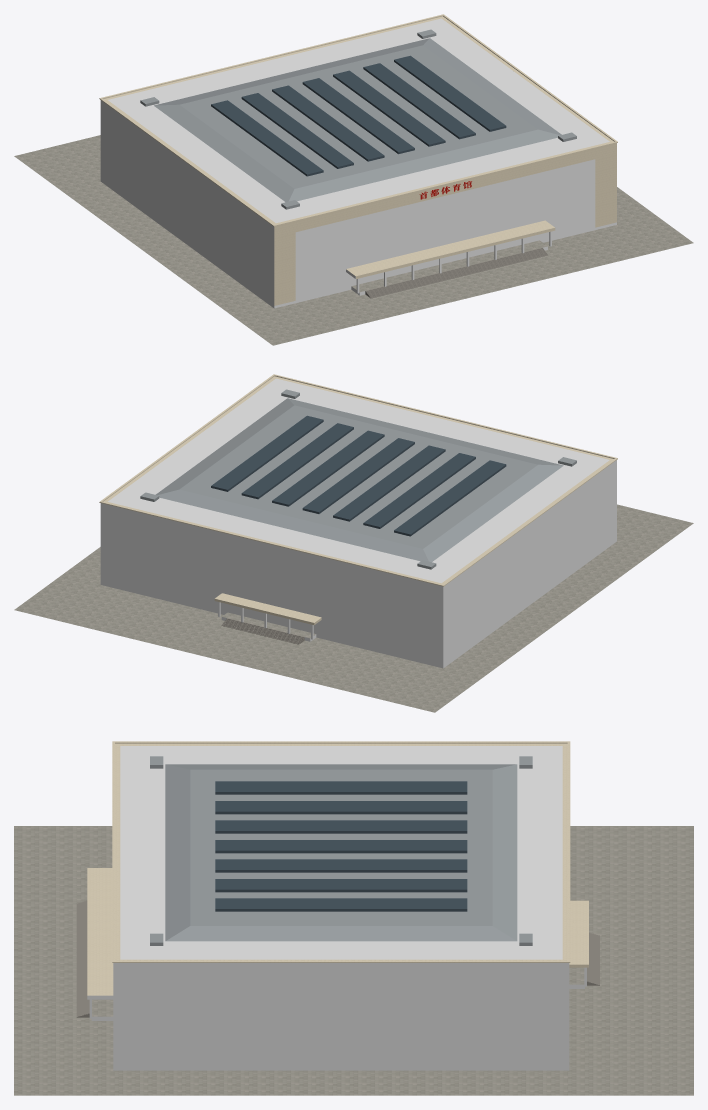
Rendered from shoudutiyuguan.glb.
3 renders of one model, top to bottom at view 1: azimuth 30°, elevation 25°; view 2: azimuth 150°, elevation 25°; view 3: azimuth 270°, elevation 25°, orthographic. The views are drawn at different scales.
Visible parts, largest first — view 1: Stadium, COL_arena; view 2: Stadium, COL_arena; view 3: Stadium, COL_arena.
Boxes of the visible parts, box(x1,y1,x2,y2) form: Stadium: box(14, 14, 693, 345); COL_arena: box(100, 18, 616, 308); Stadium: box(14, 374, 693, 712); COL_arena: box(100, 378, 616, 668); Stadium: box(14, 741, 693, 1095); COL_arena: box(113, 746, 569, 1070).
Bounding box in the file's own units: 152 × 30.4 × 162.
10 materials, 5 textured.
